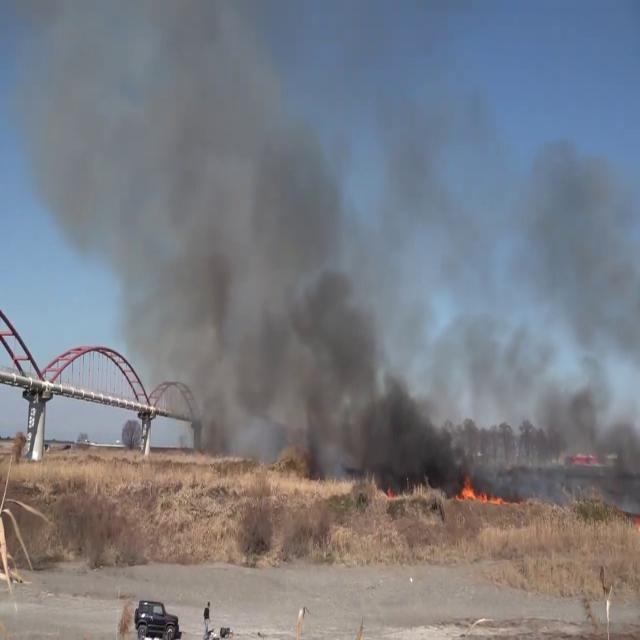Fire: (458, 471, 506, 508)
Smoke: (3, 0, 364, 476), (350, 122, 640, 487)
